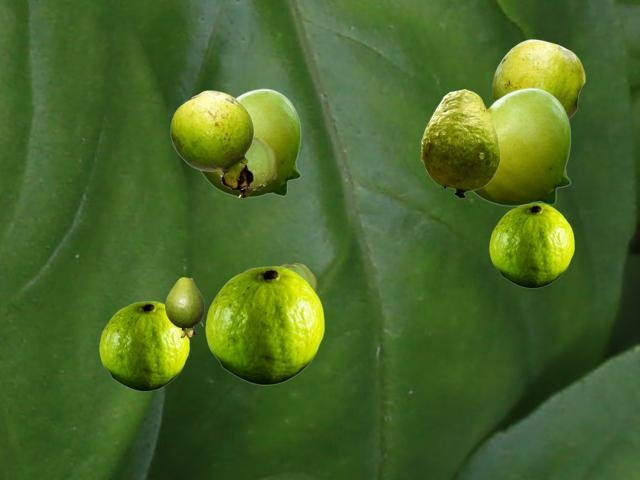guava: (205, 266, 323, 384), (473, 87, 570, 205), (200, 88, 300, 196), (420, 89, 499, 197), (170, 90, 253, 188), (99, 301, 188, 390), (492, 39, 584, 118), (489, 203, 573, 287), (219, 137, 275, 197), (165, 277, 203, 337), (280, 263, 316, 292)
